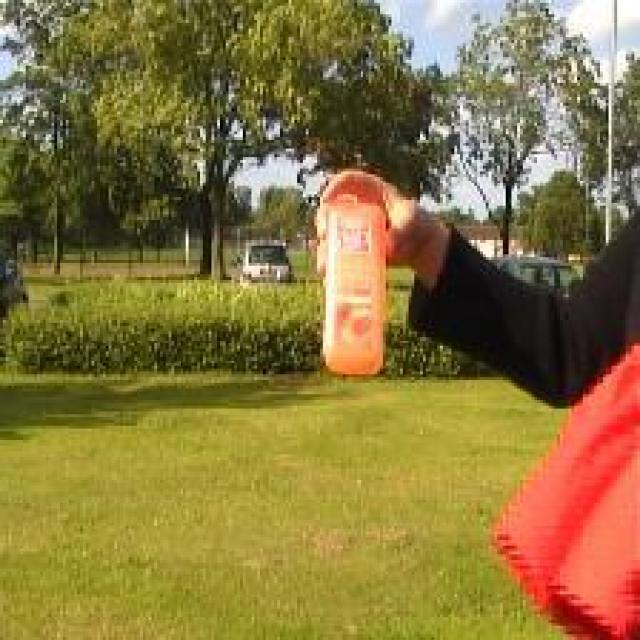other: (503, 337, 629, 631), (291, 177, 394, 371)
